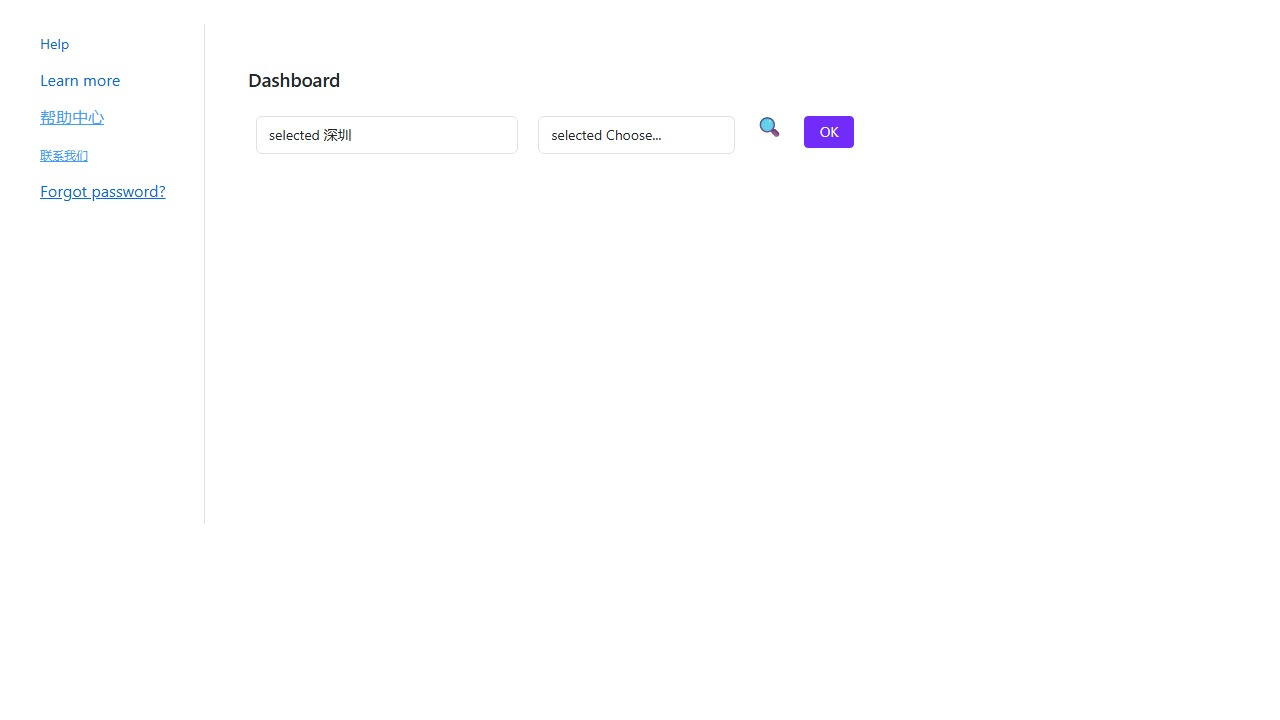button: (804, 116, 854, 148)
icon: (756, 116, 783, 136)
link: (40, 180, 166, 201), (40, 69, 120, 90), (40, 106, 104, 127), (40, 147, 88, 163), (40, 34, 69, 53)
select: (256, 116, 518, 154), (538, 116, 735, 154)
